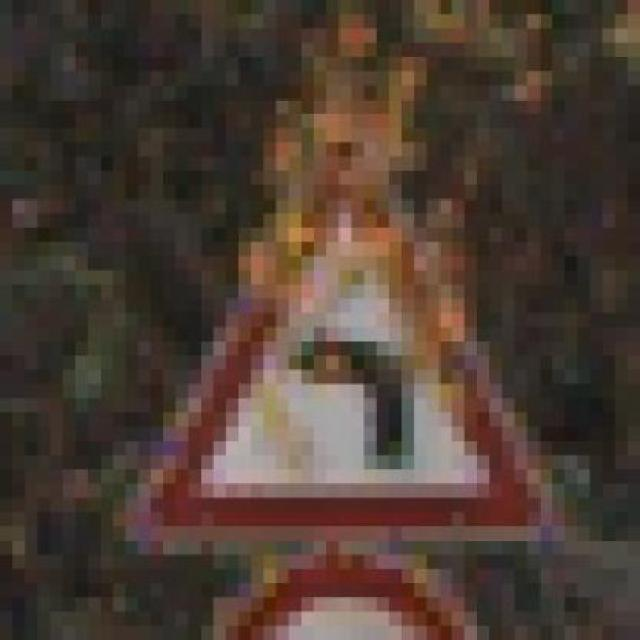Dangerous Left Curve Ahead: (100, 86, 552, 554)
